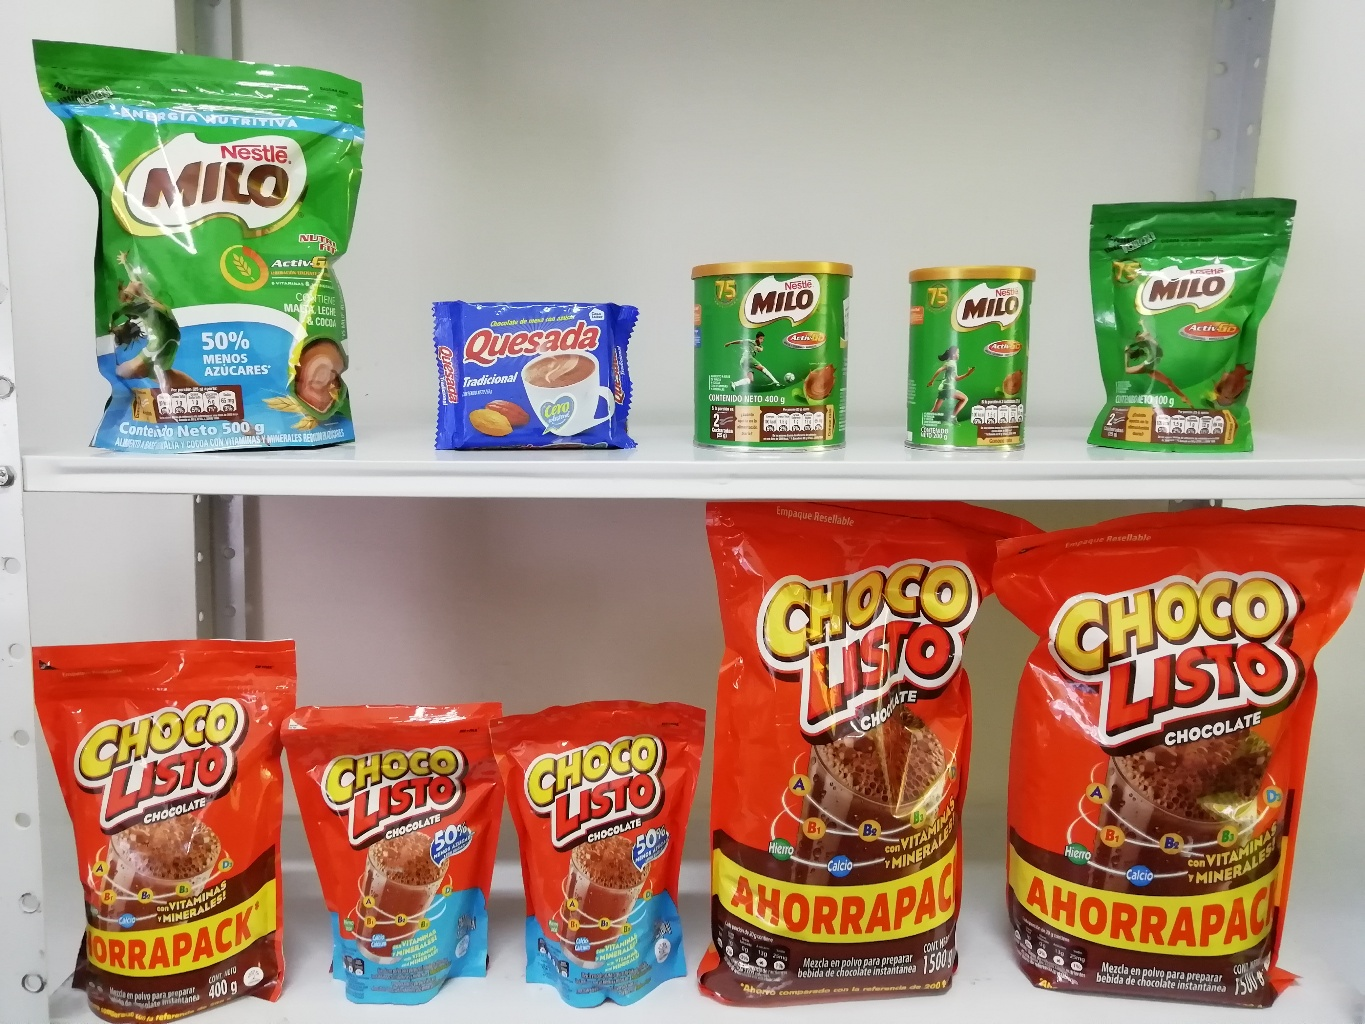COL0170103DYP1,500: (993, 497, 1363, 1021)
COL0170103DYP40000: (30, 625, 296, 1021)
COL0170104DYP20000: (490, 691, 703, 1015)
COL0170203DYP10000: (1079, 194, 1298, 456)
COL0170203LAT20000: (908, 259, 1038, 453)
COL0170203LAT40000: (688, 255, 861, 458)
COL0170205DYP50000: (33, 37, 389, 449)
